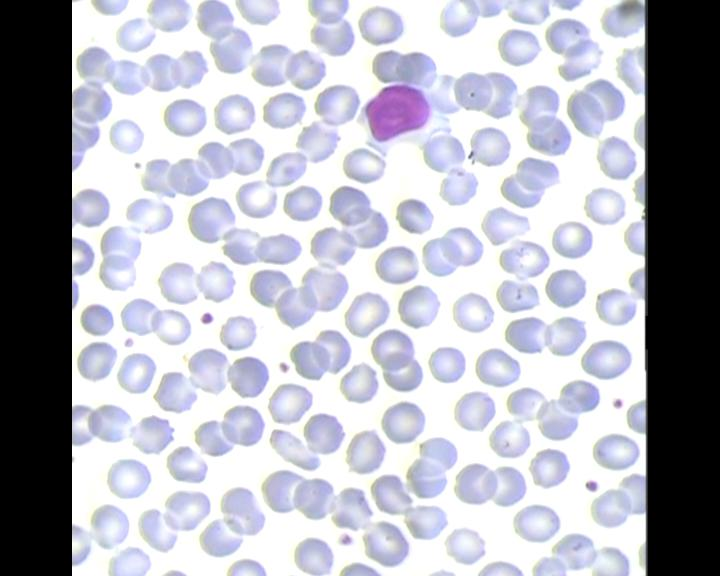lymp: (350, 75, 455, 156)
